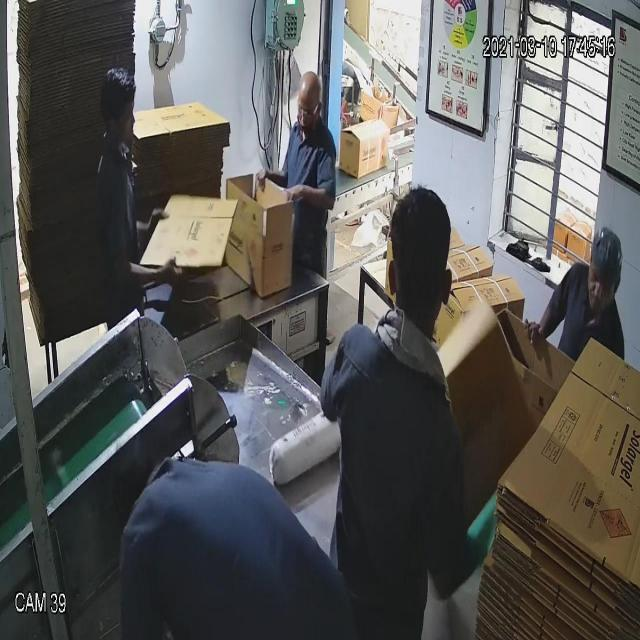No_Gloves: (36, 54, 537, 330)
